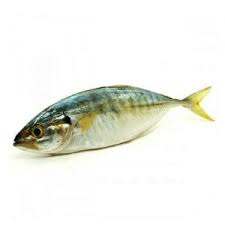Ikan Selar: (14, 84, 215, 156)
